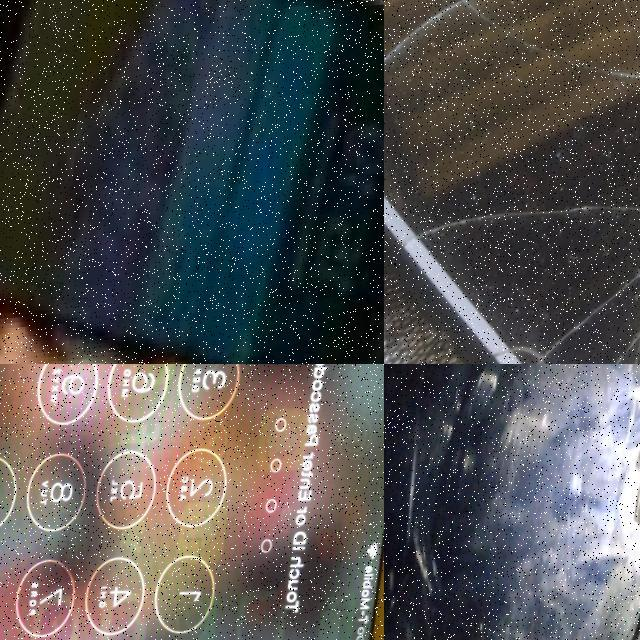screen crack: (384, 0, 640, 364), (616, 439, 640, 577)
